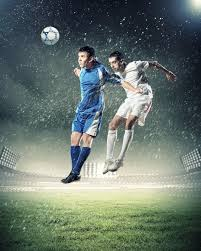football ball: (38, 26, 63, 47)
